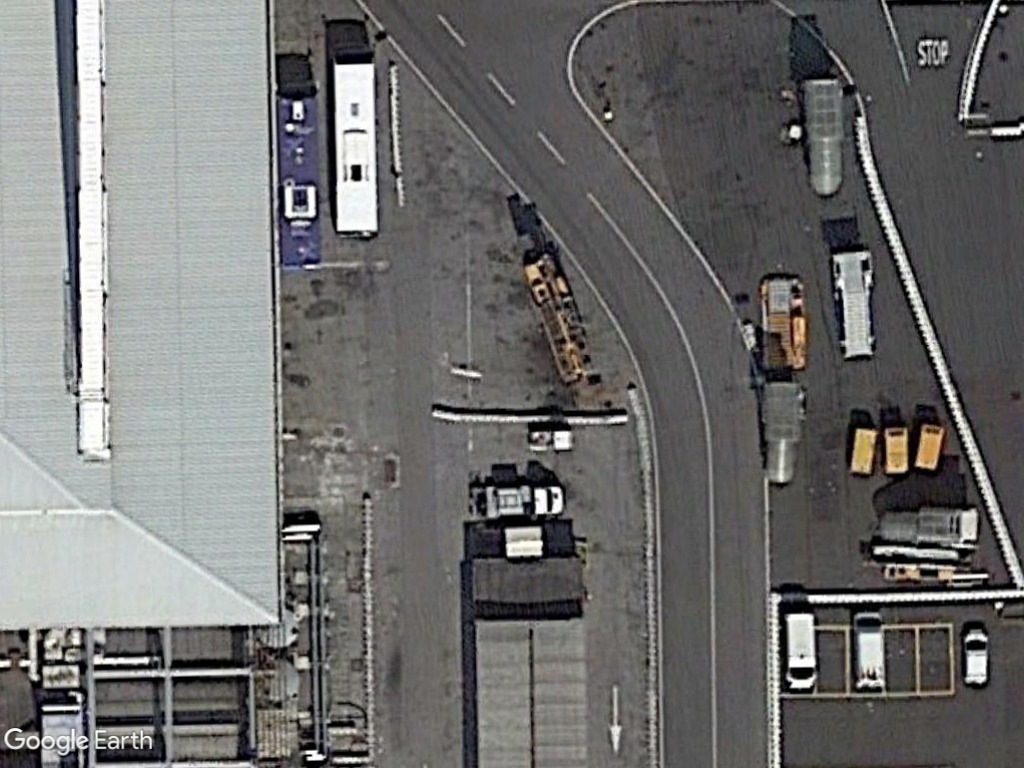bus: (325, 40, 383, 238), (275, 91, 326, 271)
other: (470, 480, 569, 524)
stairtruck: (825, 241, 881, 366)
van: (847, 606, 890, 693), (780, 611, 820, 693), (959, 626, 992, 689)
